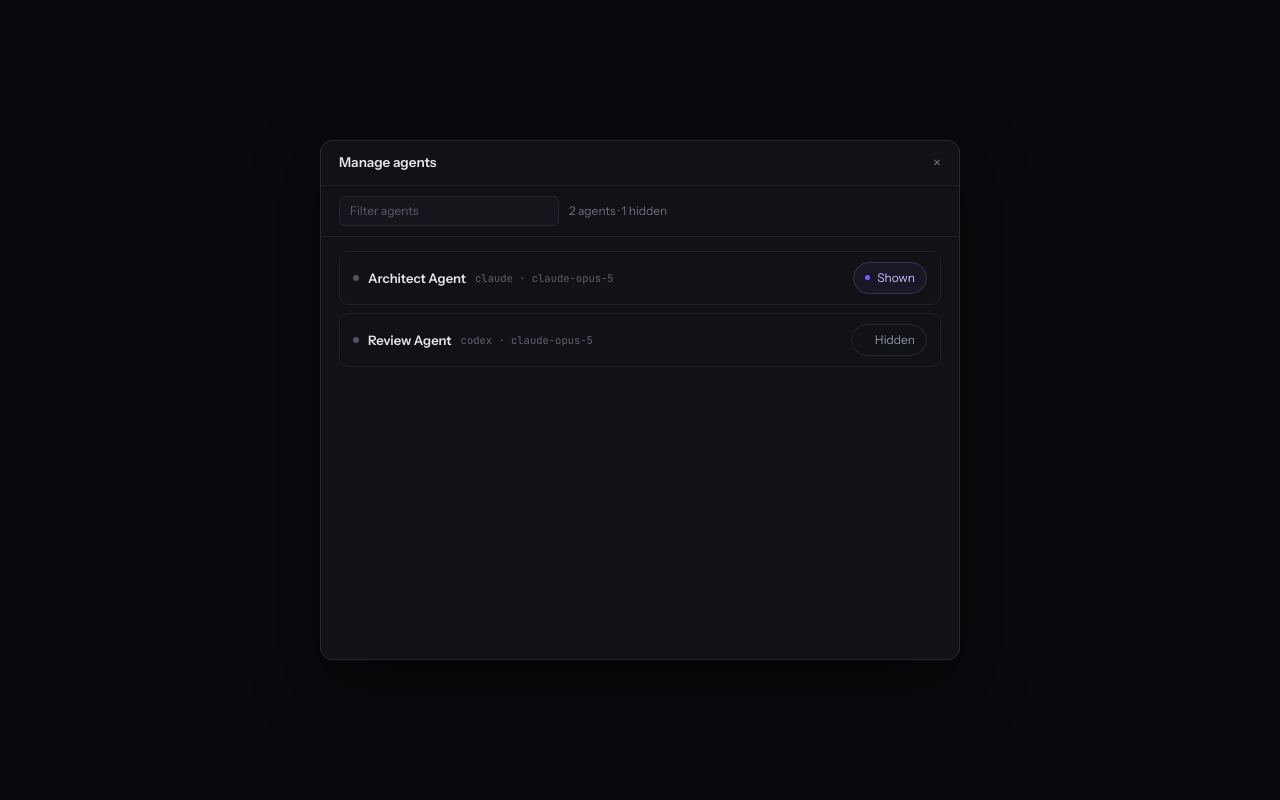
Test case: ManageAgentsModal › surfaces the reason an agent could not be changed
The image size is (1280, 800).
What coordinates should you click on to do the following:
click the button with aria-label "Show Review Agent"
I would click on:
 (889, 340)
Its box is [851,324,927,356].
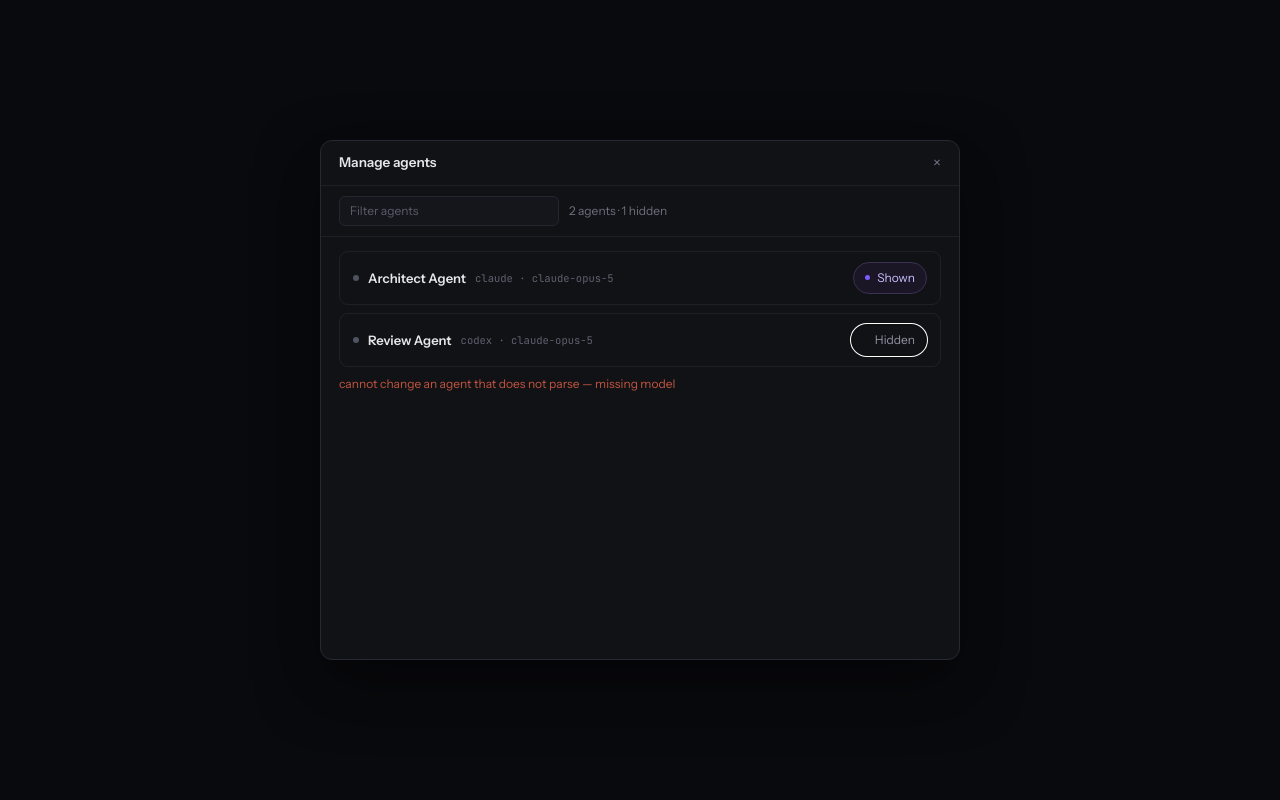
Expected: the text "cannot change an agent that does not parse — missing model" is shown, [339,376,675,391]
